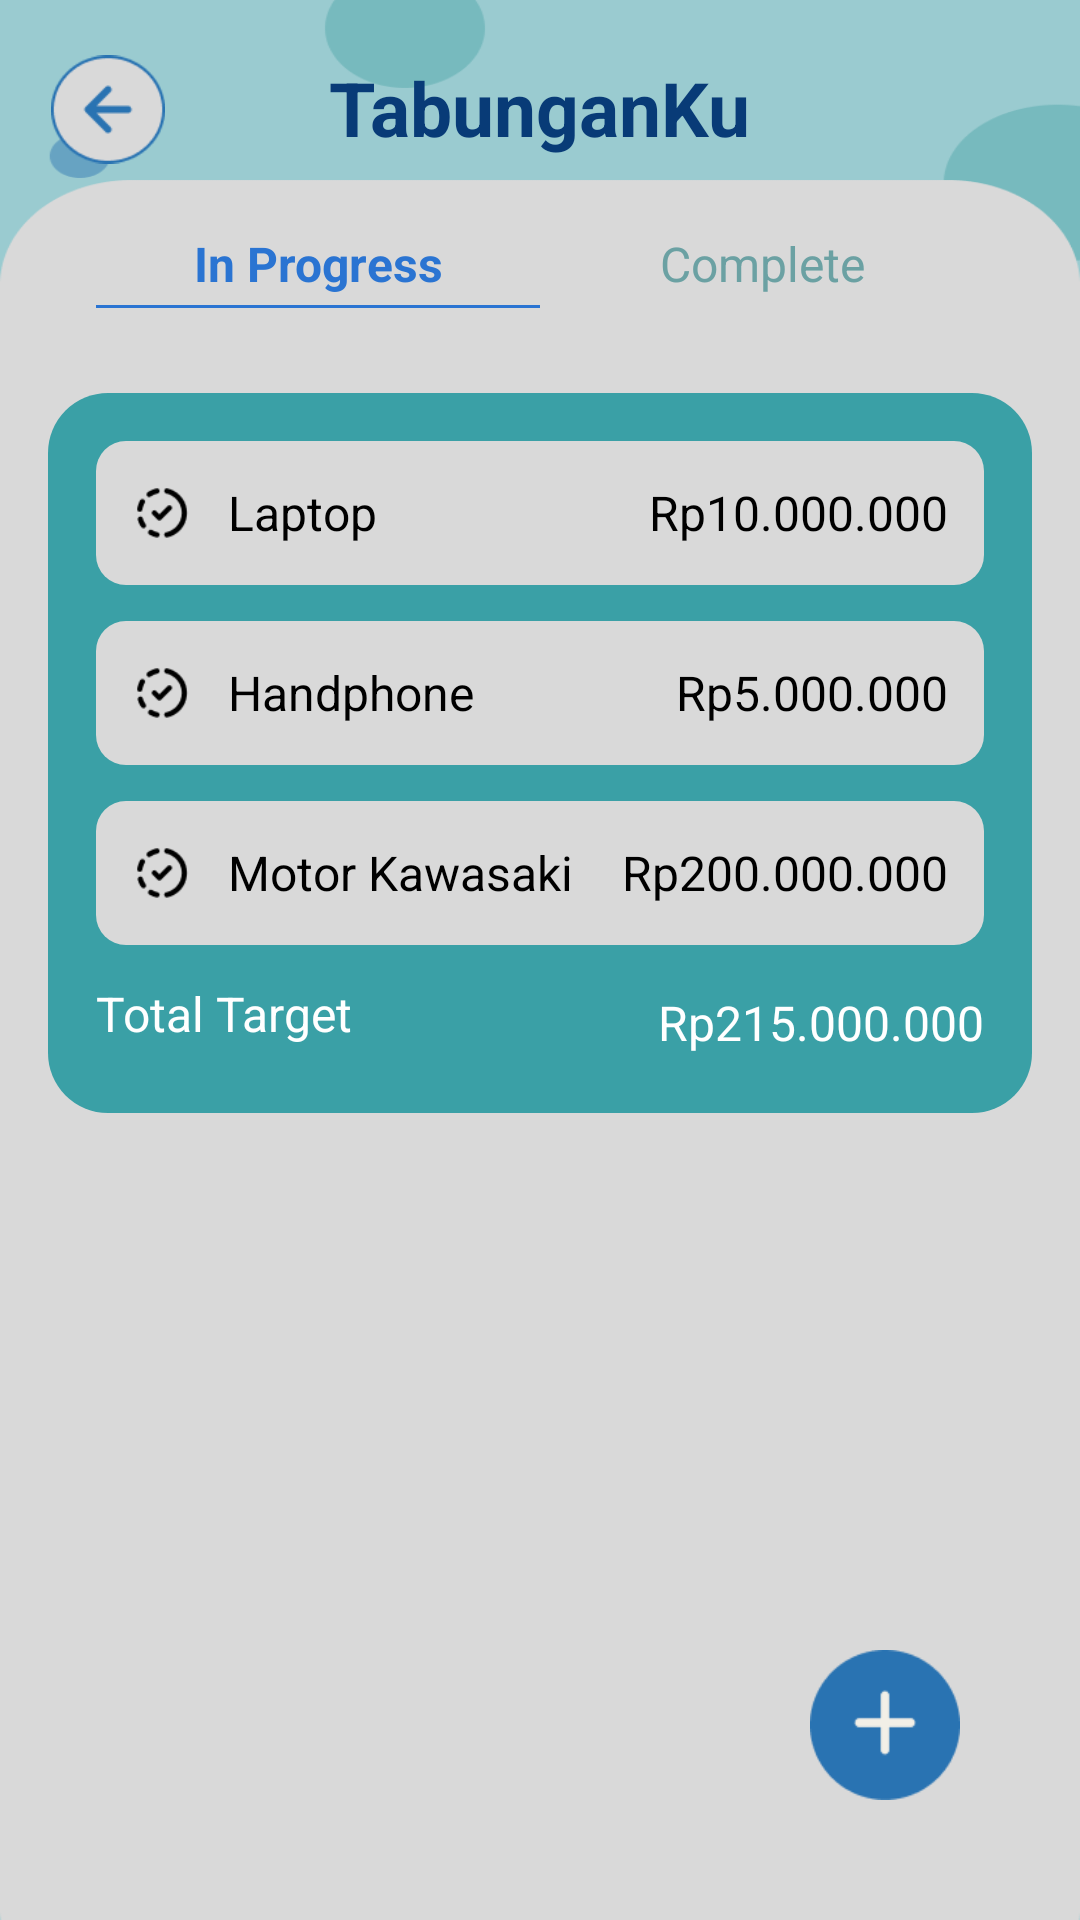

Icon bounding boxes for this 1080px×1920px phone screenshot, format (x1, y1, x2, y2):
add: (810, 1650, 960, 1800)
tombol back: (51, 55, 165, 168)
